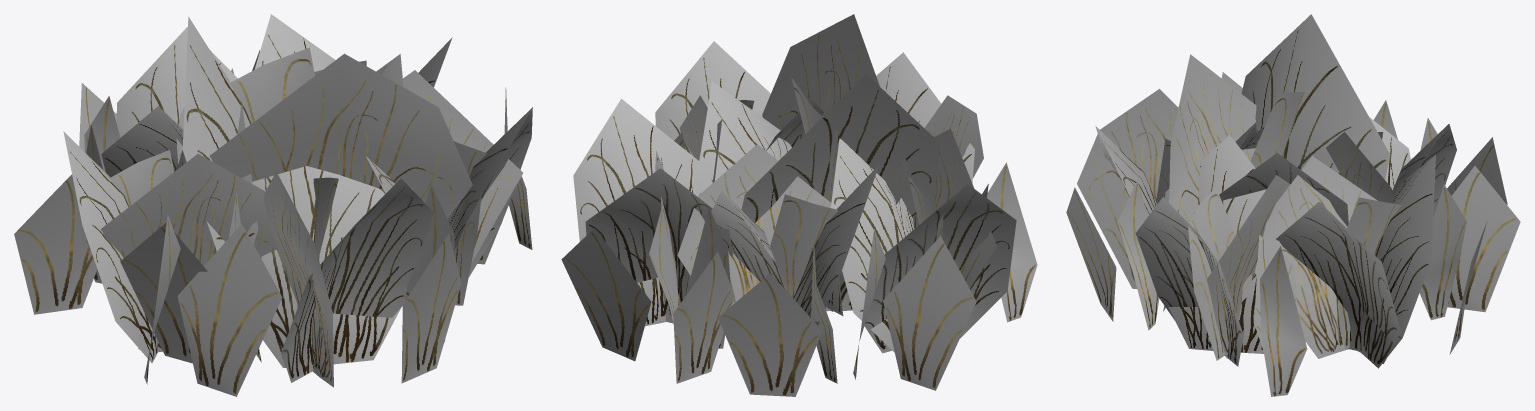
Rendered from SM_Grass_var3.fbx.
3 views of the same model, side by side, from view 1: azimuth 30°, elevation 25°; view 2: azimuth 150°, elevation 25°; view 3: azimuth 270°, elevation 25° (orthographic). The views are drawn at different scales.
Parts seen in each view (by area): view 1: SM_Grass_var3_LOD0; view 2: SM_Grass_var3_LOD0; view 3: SM_Grass_var3_LOD0.
Boxes of the visible parts, x1,y1,x2,y2 form: SM_Grass_var3_LOD0: (14,14,532,396); SM_Grass_var3_LOD0: (561,14,1037,396); SM_Grass_var3_LOD0: (1066,14,1520,396).
Size of the model in its own units: 160 by 158 by 103.
